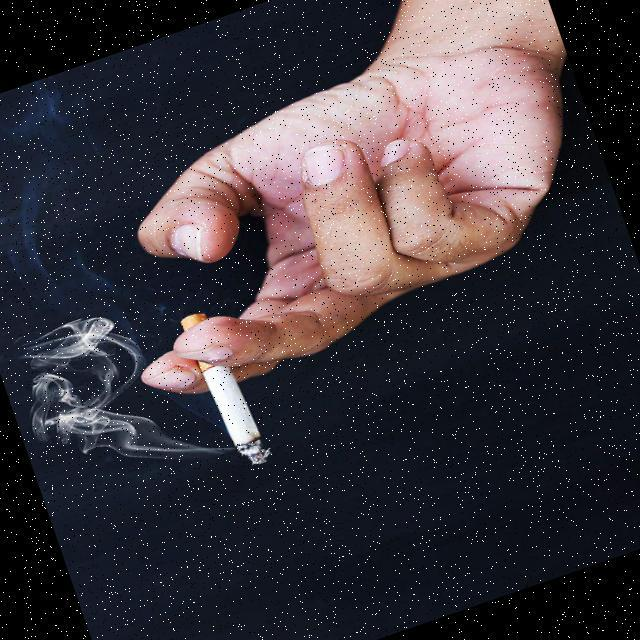cigarette: (176, 303, 274, 473)
